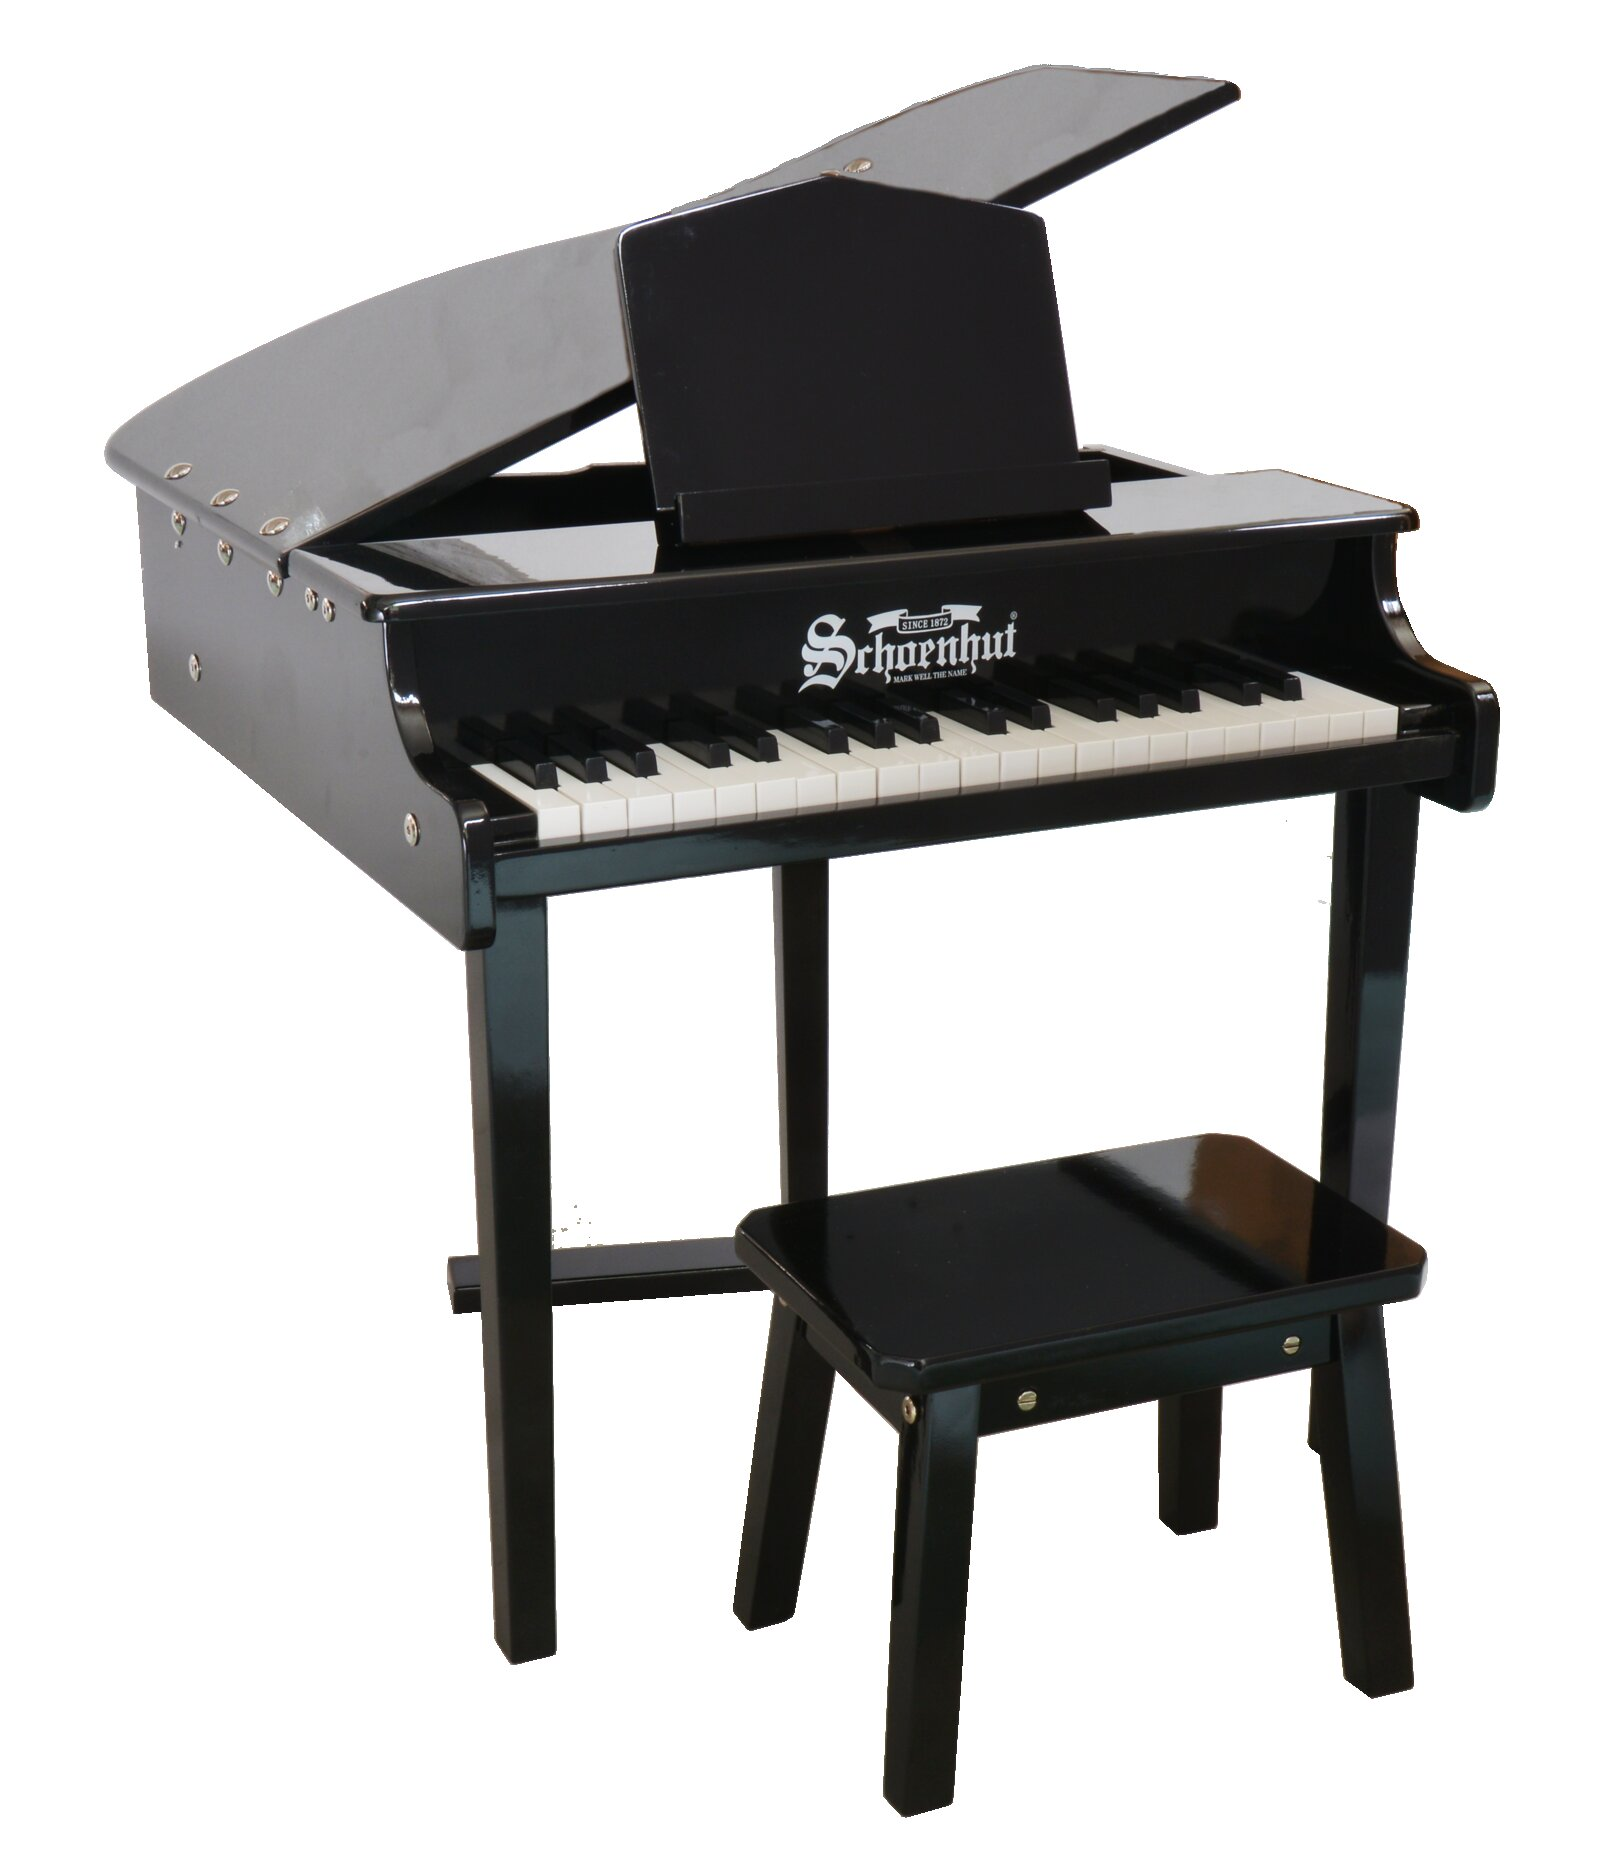GrandPiano: (105, 217, 1598, 952)
